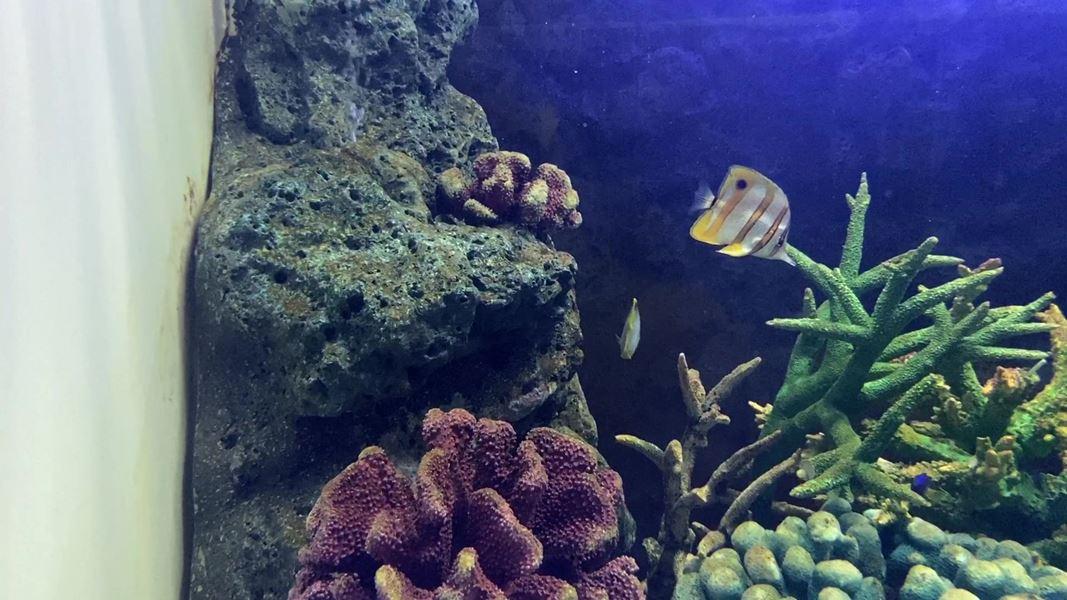Black-backed butterflyfish: (610, 293, 651, 368)
